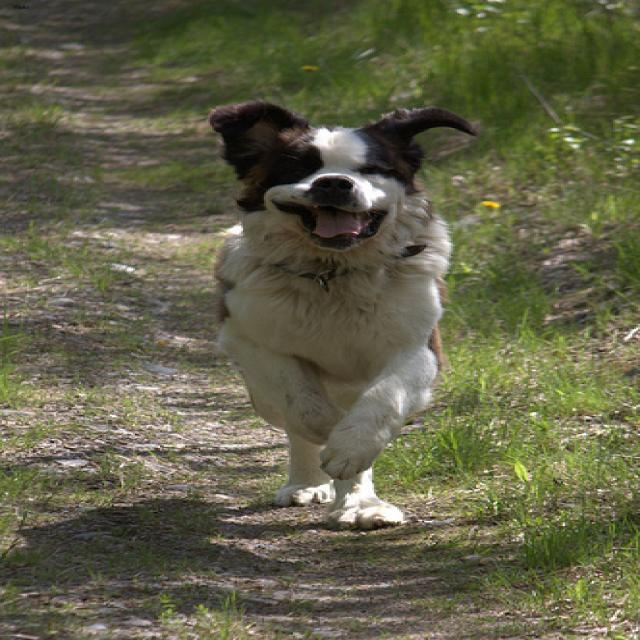dog-saint_bernard: (195, 92, 488, 543)
